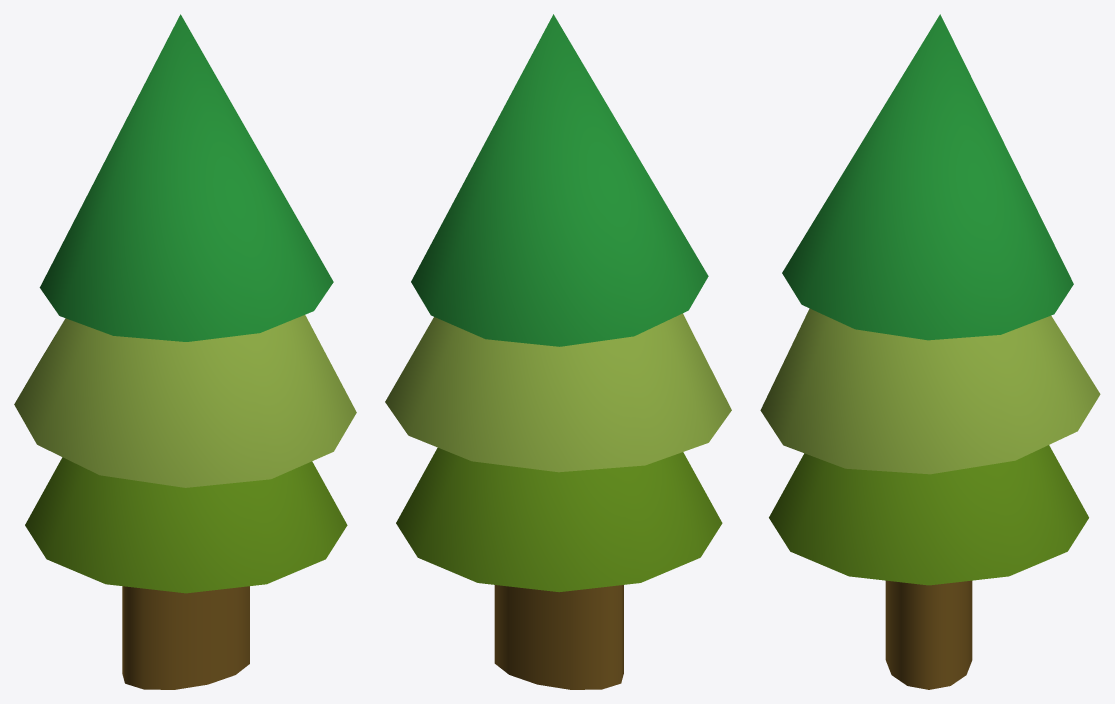
The model's file is pine1.fbx.
The picture shows the model from 3 angles, left to right: view 1: azimuth 30°, elevation 25°; view 2: azimuth 150°, elevation 25°; view 3: azimuth 270°, elevation 25°; orthographic projection.
Parts seen in each view (by area): view 1: obj_pine.001; view 2: obj_pine.001; view 3: obj_pine.001.
Boxes of the visible parts, bbox=[...] form: obj_pine.001: bbox=[14, 14, 356, 689]; obj_pine.001: bbox=[385, 14, 731, 689]; obj_pine.001: bbox=[760, 14, 1100, 689].
Bounding box in the file's own units: 4.45 × 9.31 × 4.44.
